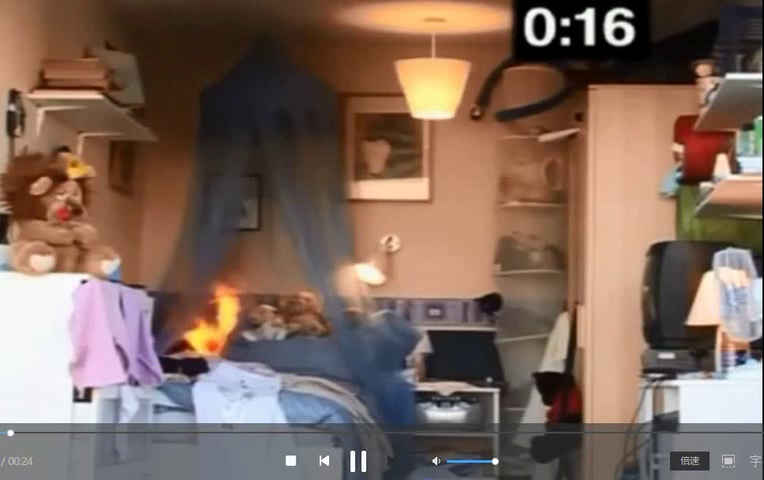fire: (175, 277, 242, 367)
